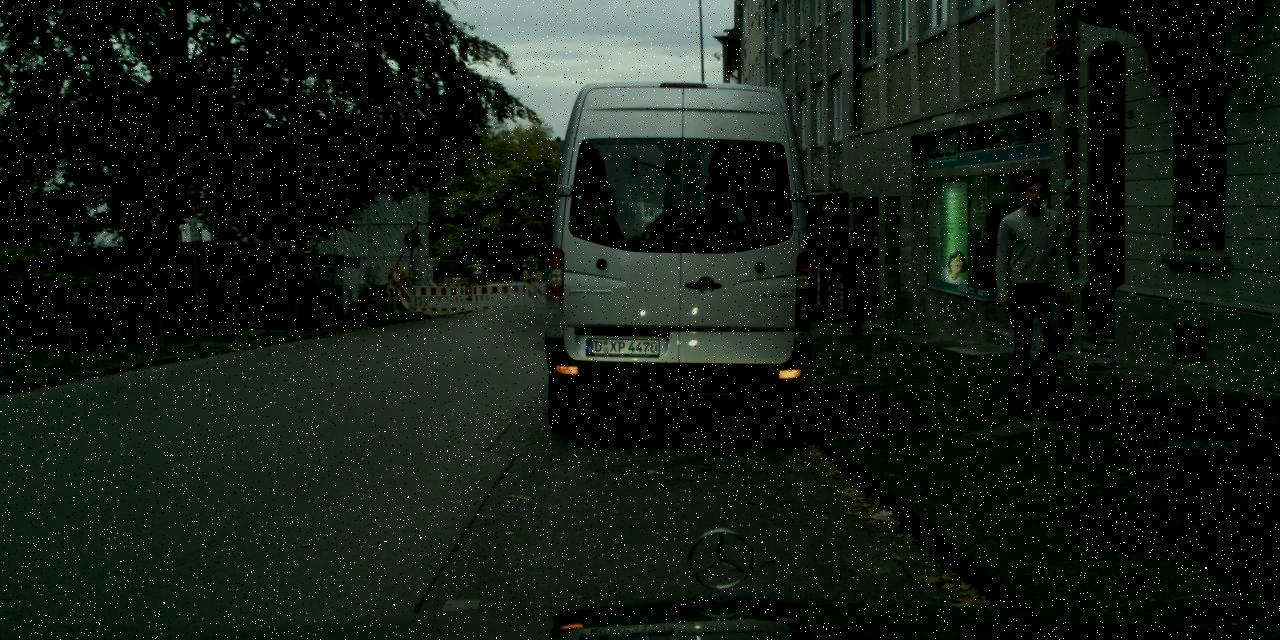ped: (987, 172, 1080, 400), (834, 229, 878, 336)
